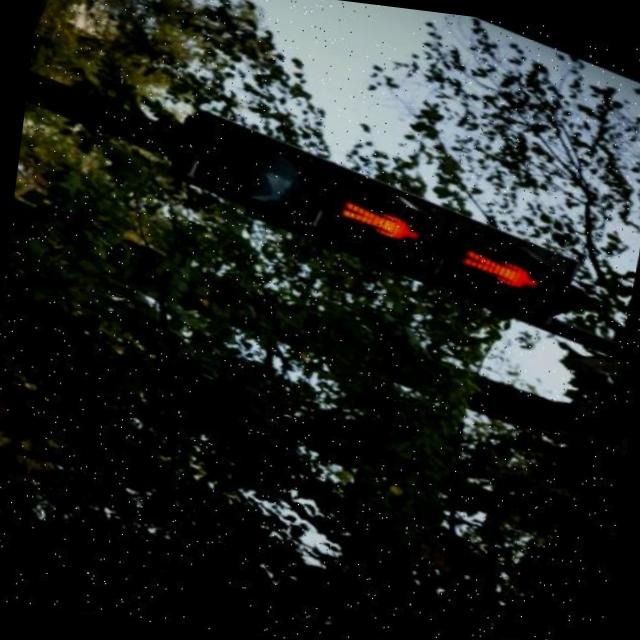red_light: (324, 185, 436, 262), (453, 234, 554, 306)
